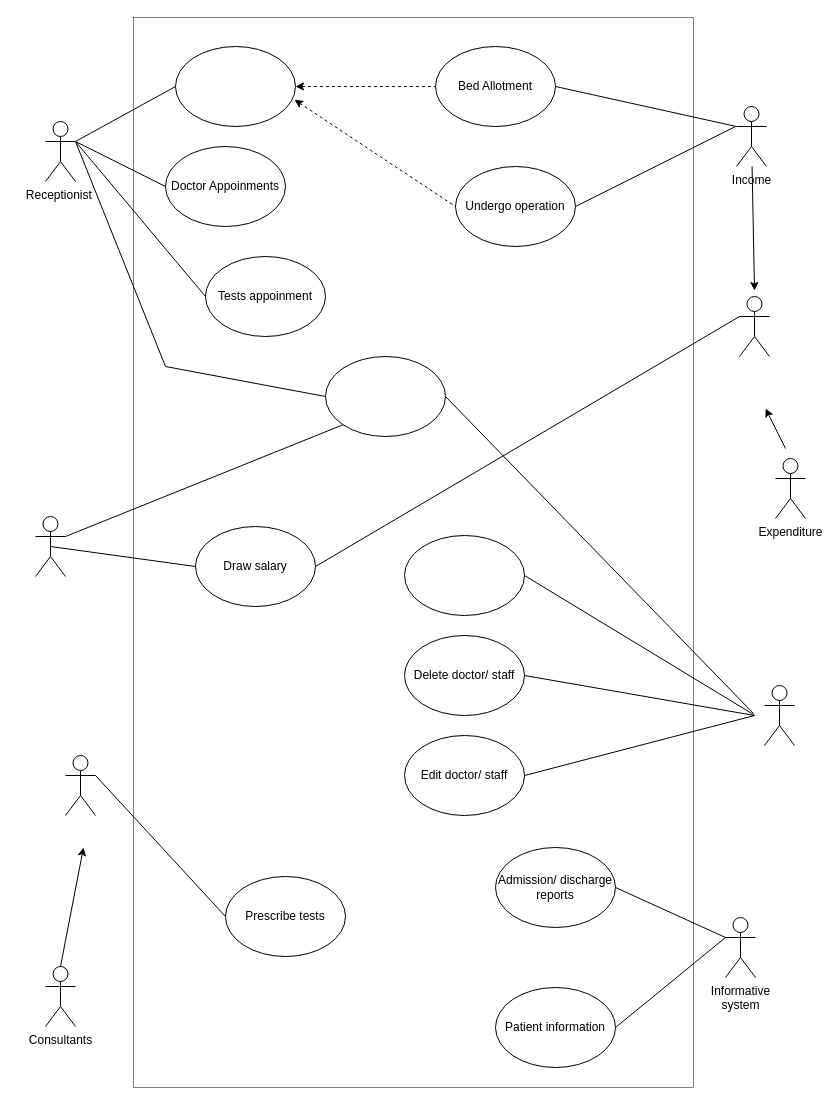
The diagram is 840 pixels wide and 1105 high, and some of its shapes have lost their labels. The shapes that lost their labels are listed below. From the top down, each one's centre as x and y in pixels, then its label:
[235,86]: Admission
[754,326]: Finance Managements system
[385,396]: Log in
[50,546]: Staff Nurses
[464,575]: Add doctor /staff
[779,715]: Records system
[80,785]: Doctors
